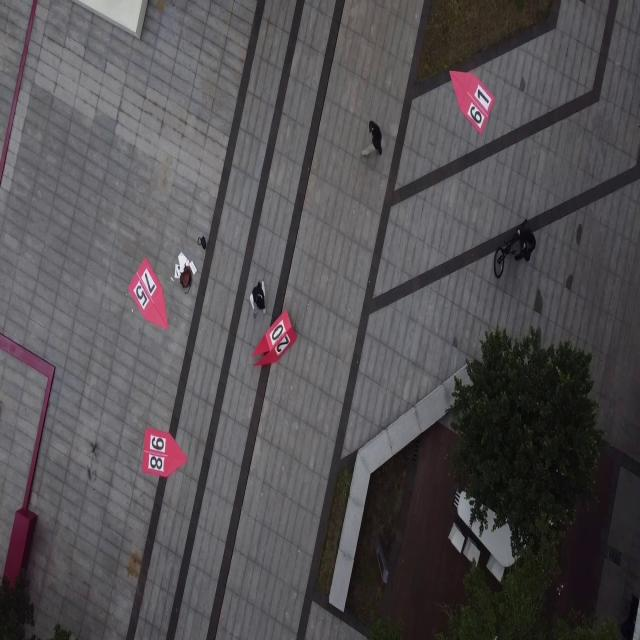-sign-: (128, 257, 170, 331), (449, 69, 493, 136), (252, 311, 297, 366), (142, 429, 187, 479)
